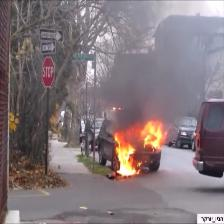fire: (110, 103, 173, 184)
smoke: (138, 57, 195, 100)
